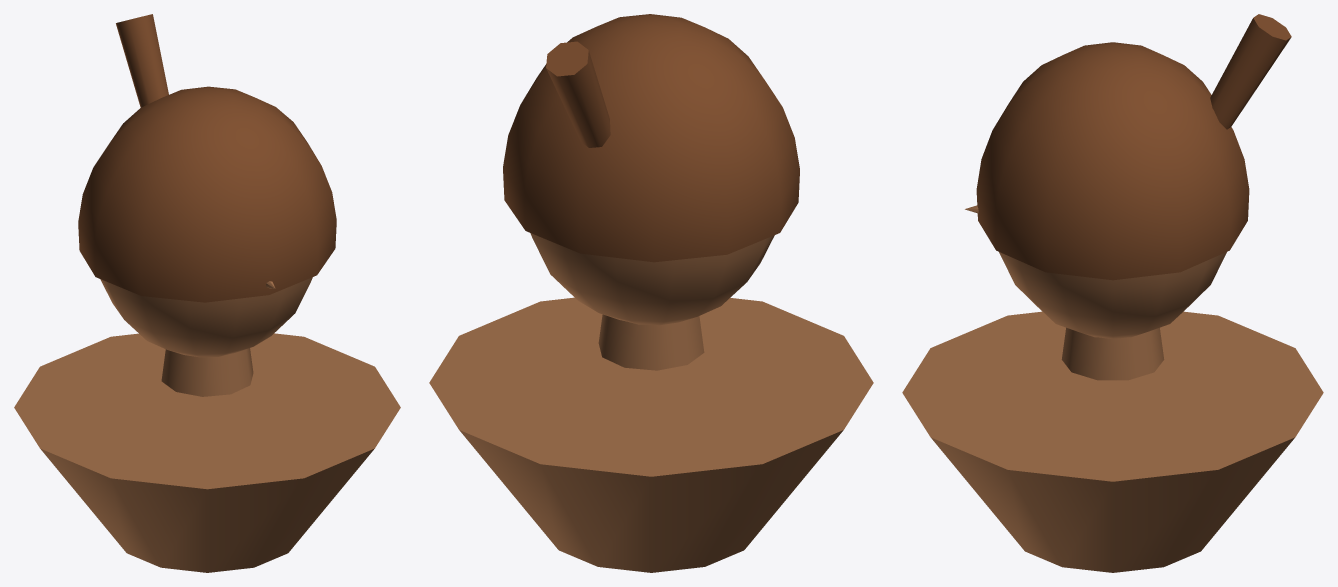
File: portrait07w_001.glb
3 renders of one model, left to right at view 1: azimuth 30°, elevation 25°; view 2: azimuth 150°, elevation 25°; view 3: azimuth 270°, elevation 25°, orthographic. The views are drawn at different scales.
Size of the model in its own units: 1.73 by 2.32 by 1.73.
